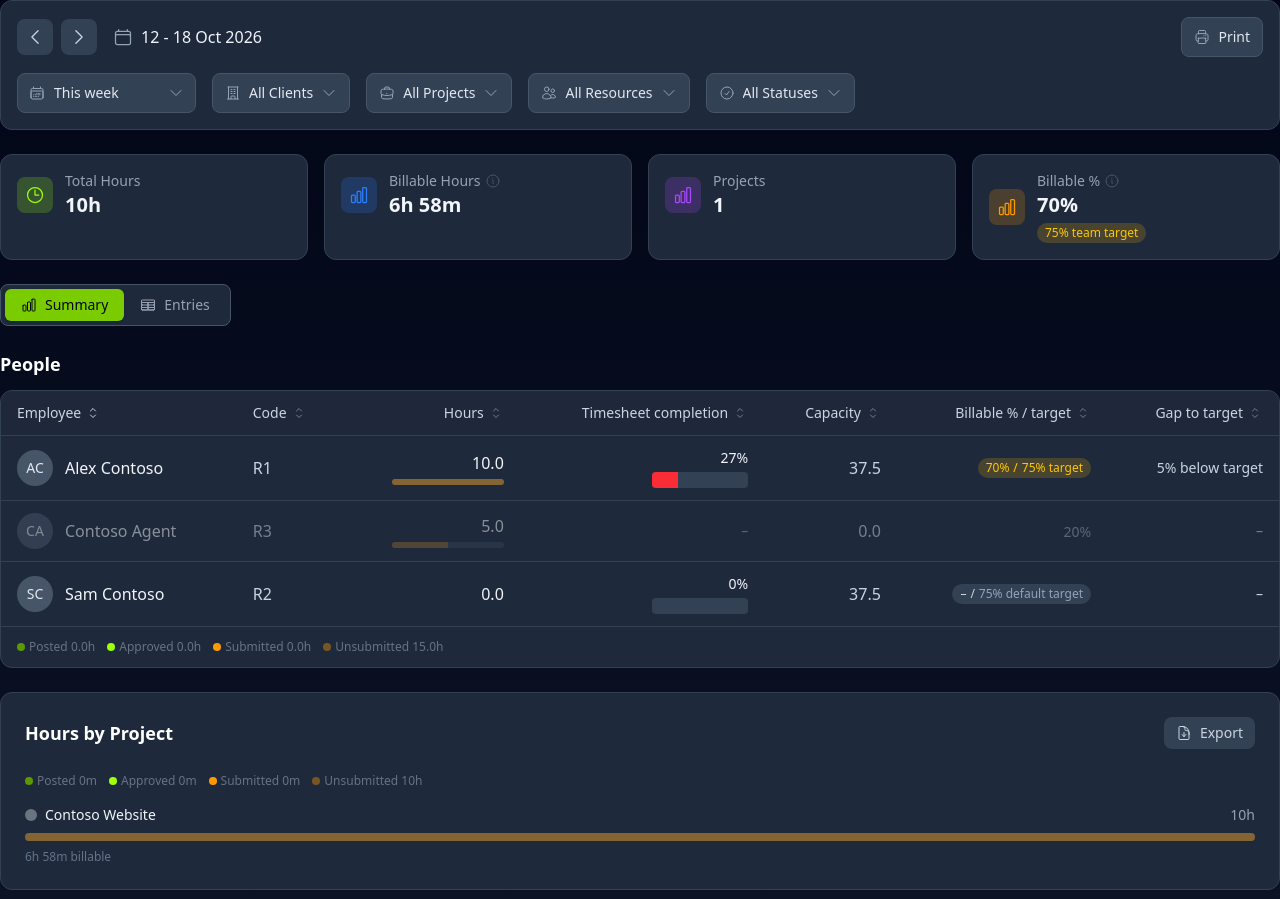
Test: ReportsPanel › doesn't reload when switching to a custom range of the same dates
The image size is (1280, 899).
Expected: the table is shown, [1,391,1279,626]
Step 1. Select "Custom range…" in the dropdown named "Period" → {"x": 106, "y": 93}, box [17,73,196,113]
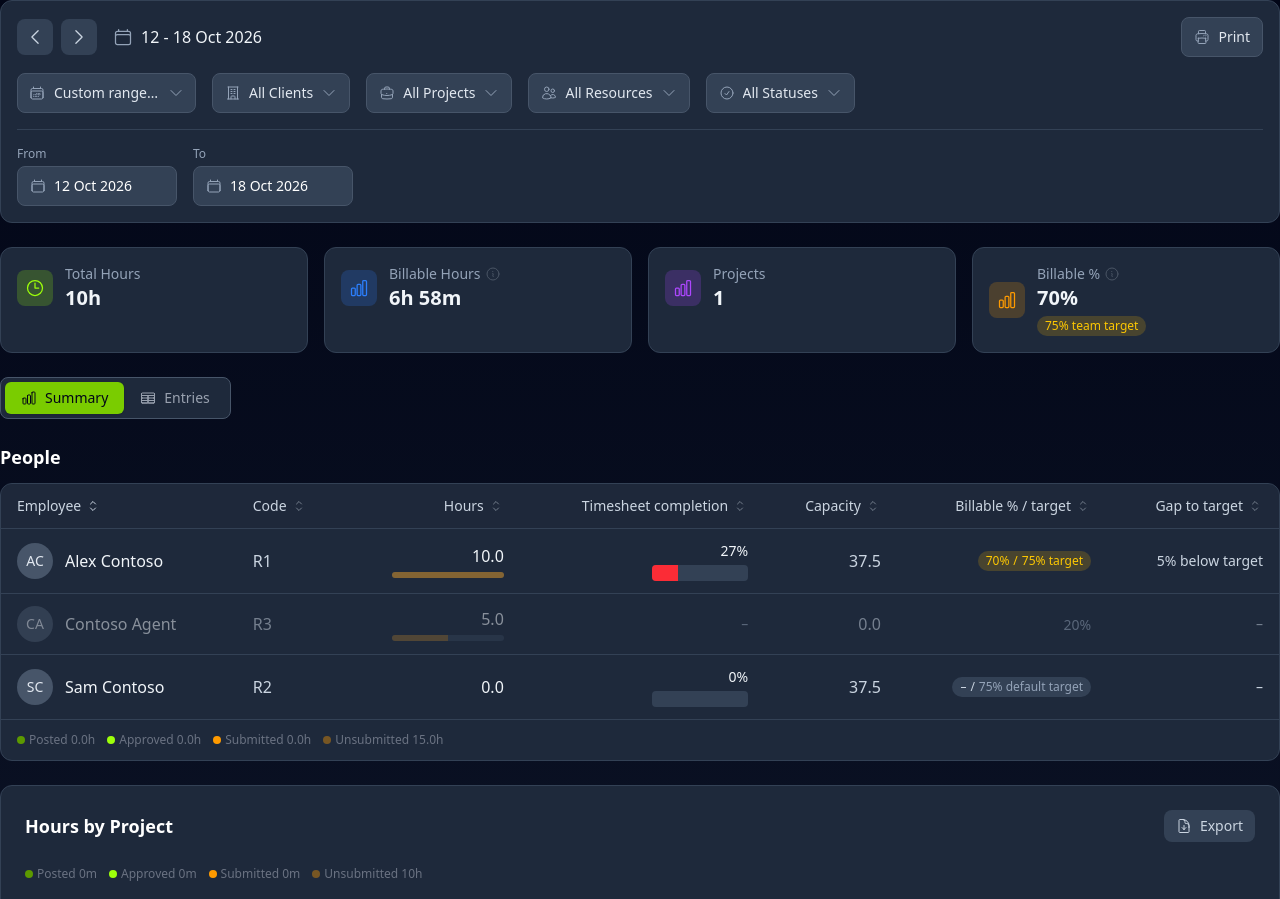
Expected: the text "From" is shown, [17,145,46,162]
